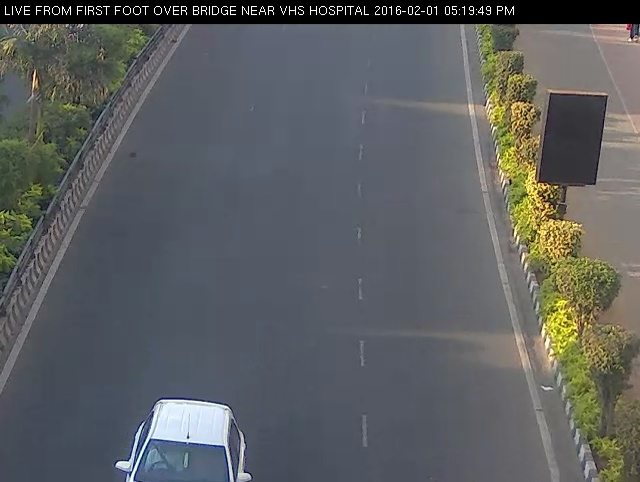Car: (93, 395, 272, 482)
